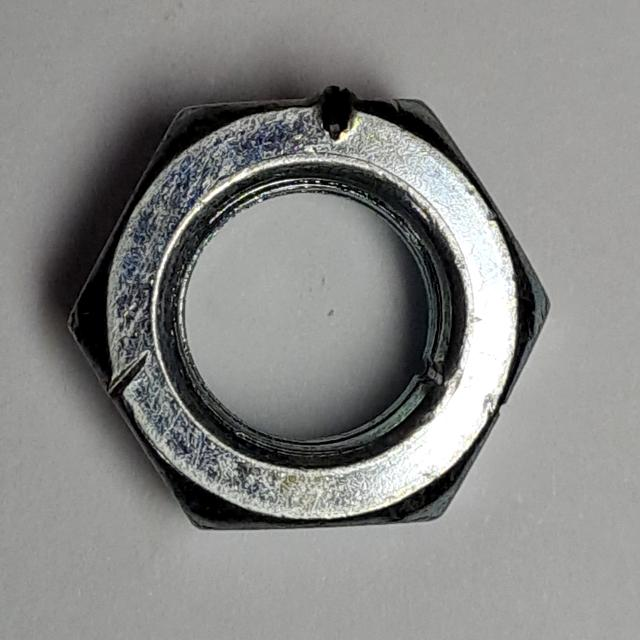Scratches: (59, 74, 566, 550)
